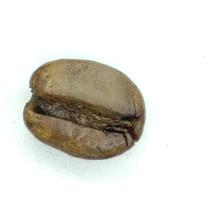NG: (29, 83, 135, 146)
